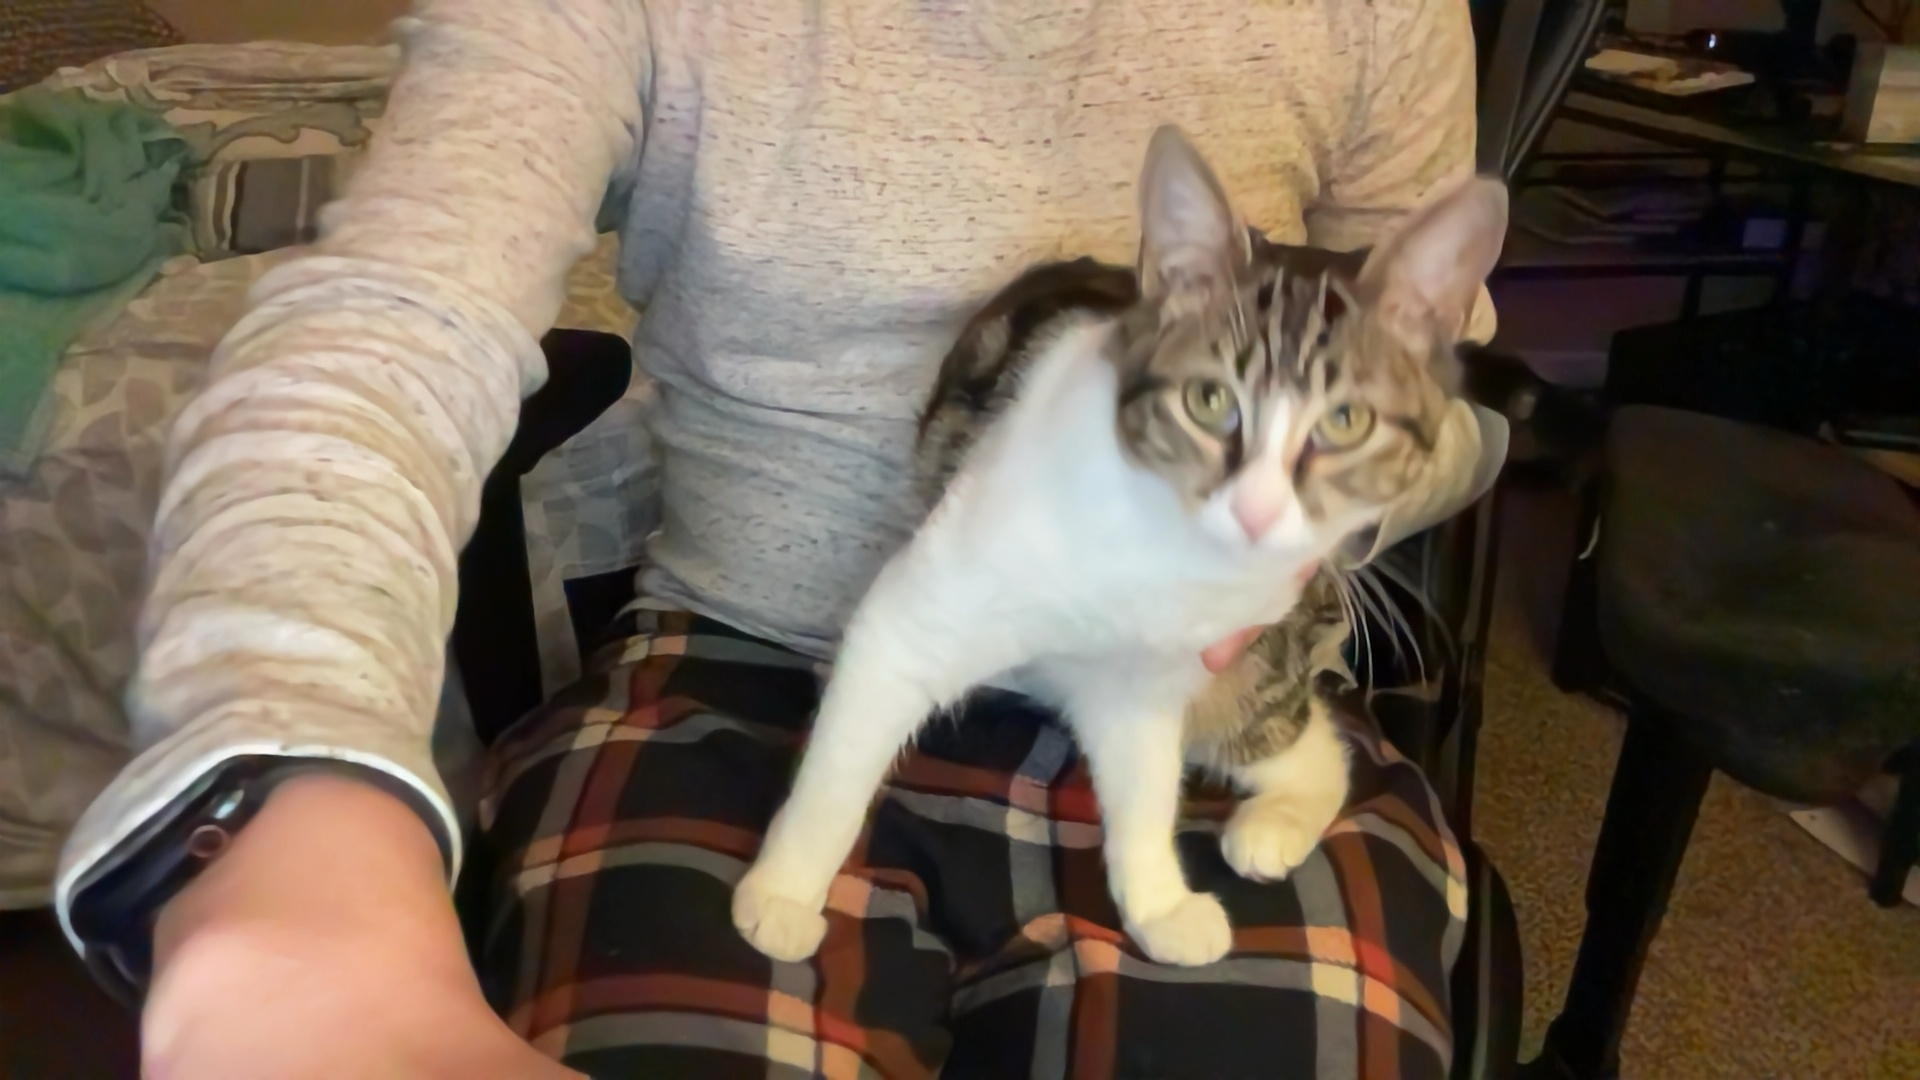cat: (720, 108, 1528, 986)
